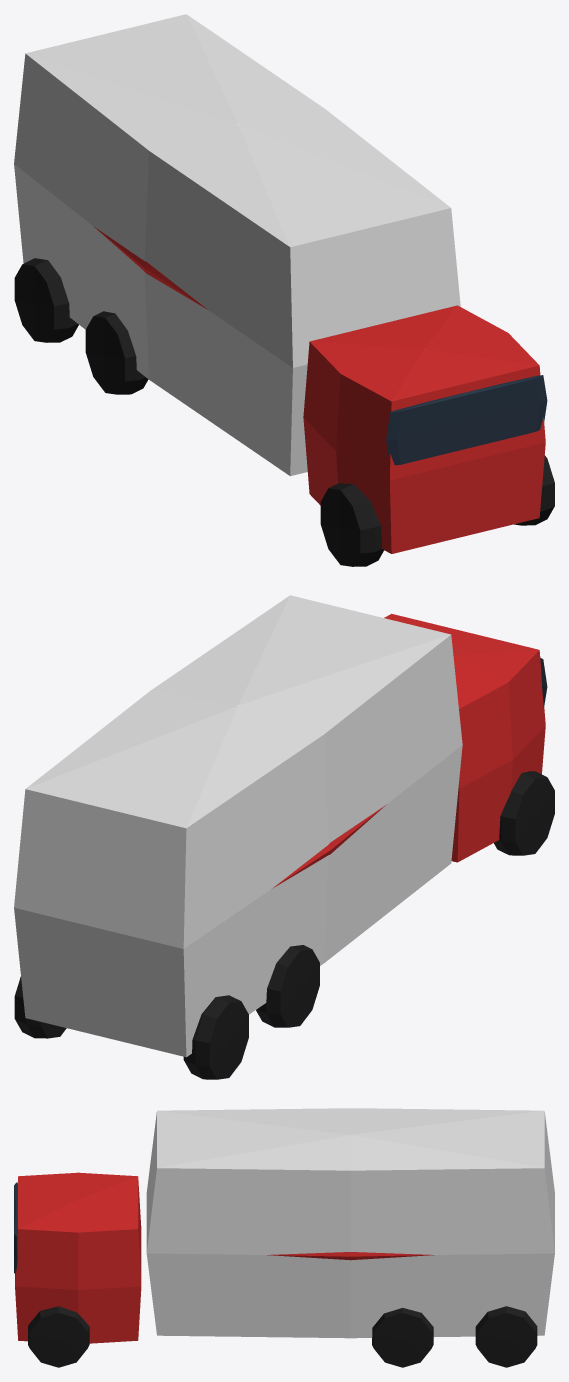
File: s-truck.glb
3 views of the same model, one above another, from view 1: azimuth 30°, elevation 25°; view 2: azimuth 150°, elevation 25°; view 3: azimuth 270°, elevation 25° (orthographic). The views are drawn at different scales.
Visible parts, largest first — view 1: p; view 2: p; view 3: p.
Part boxes in pixels (x1=…): p: x1=14, y1=14, x2=554, y2=566; p: x1=14, y1=595, x2=554, y2=1079; p: x1=14, y1=1108, x2=554, y2=1367.
Bounding box in the file's own units: 2.56 × 3.4 × 8.33.
